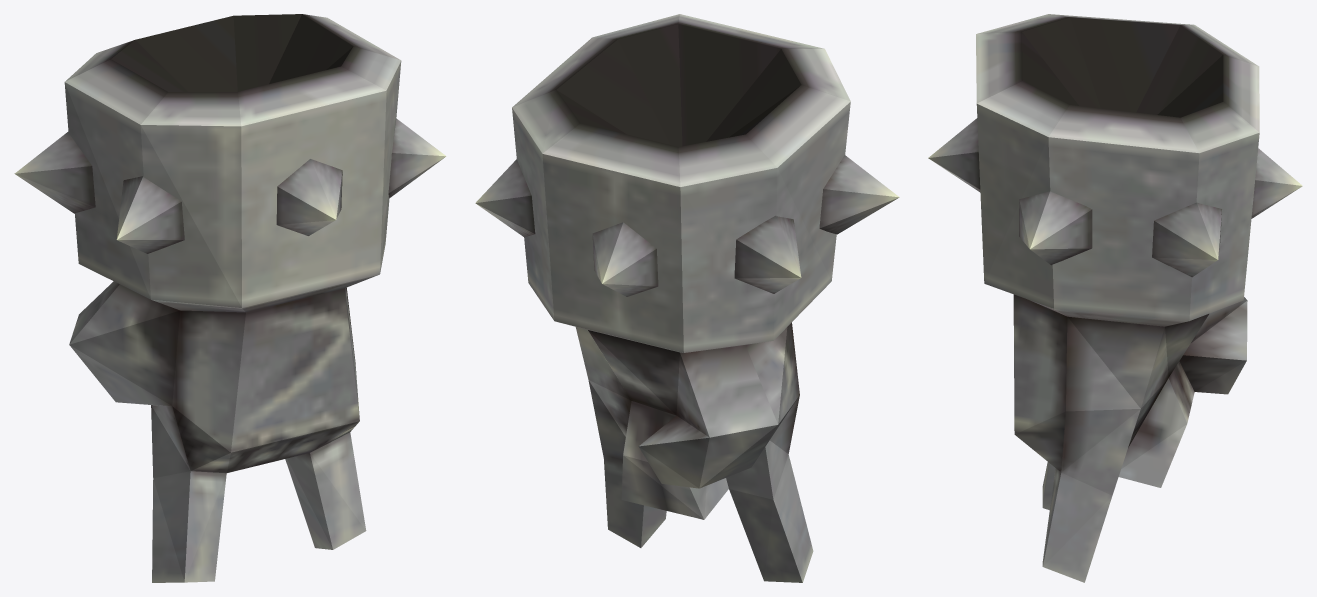
Rendered from Panda_superStarKnuckle_right.obj.
3 renders of one model, left to right at view 1: azimuth 30°, elevation 25°; view 2: azimuth 150°, elevation 25°; view 3: azimuth 270°, elevation 25°, orthographic. The views are drawn at different scales.
Parts seen in each view (by area): view 1: Panda_superStarKnuckle_tri [right]; view 2: Panda_superStarKnuckle_tri [right]; view 3: Panda_superStarKnuckle_tri [right].
Part boxes in pixels (x1,y1,x2,y2): Panda_superStarKnuckle_tri [right]: (14,14,446,582); Panda_superStarKnuckle_tri [right]: (475,14,899,582); Panda_superStarKnuckle_tri [right]: (928,14,1302,582).
Bounding box in the file's own units: 0.1631 × 0.2372 × 0.1623.
Materials: 1 (1 with a texture image).
